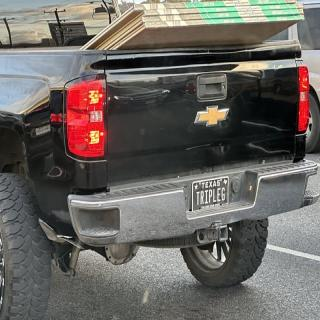license: (192, 176, 230, 213)
